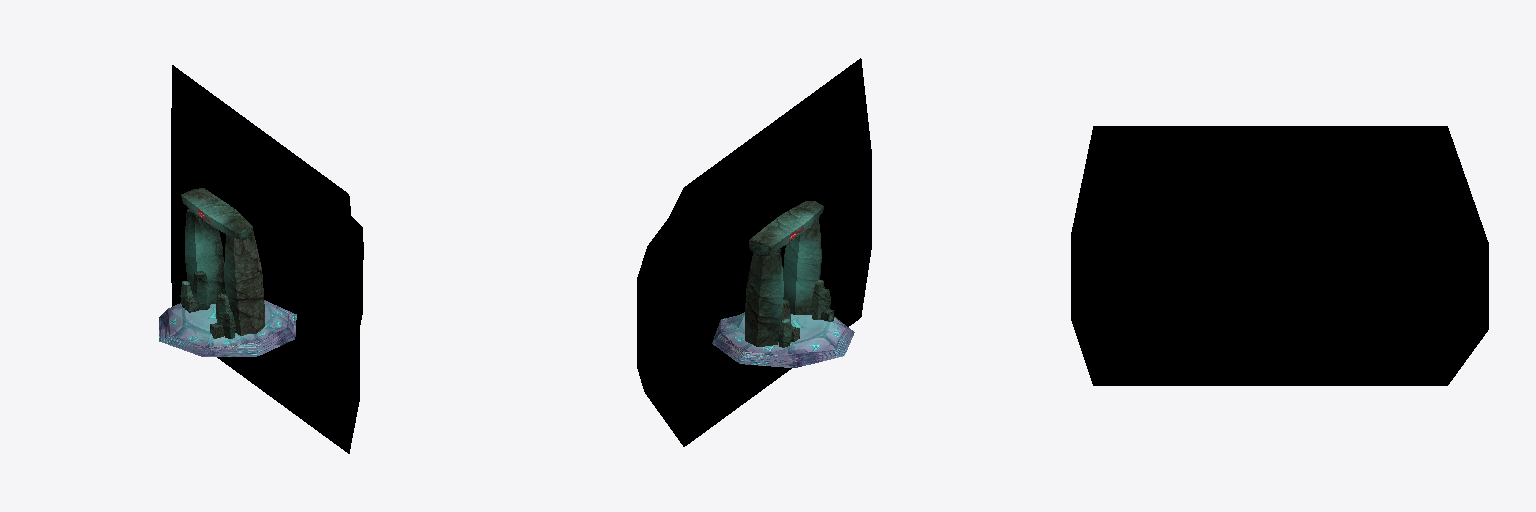
3 views of the same model, side by side, from view 1: azimuth 30°, elevation 25°; view 2: azimuth 150°, elevation 25°; view 3: azimuth 270°, elevation 25° (orthographic).
Parts seen in each view (by area): view 1: pPlane1, polySurface1; view 2: pPlane1, polySurface1; view 3: pPlane1.
Boxes of the visible parts, box(x1,y1,x2,y2) form: pPlane1: box(171, 65, 363, 453); polySurface1: box(159, 188, 296, 356); pPlane1: box(637, 58, 871, 446); polySurface1: box(712, 201, 854, 367); pPlane1: box(1071, 126, 1488, 385).
Bounding box in the file's own units: 40.83 × 58.58 × 85.23.
Materials: 2 (1 with a texture image).